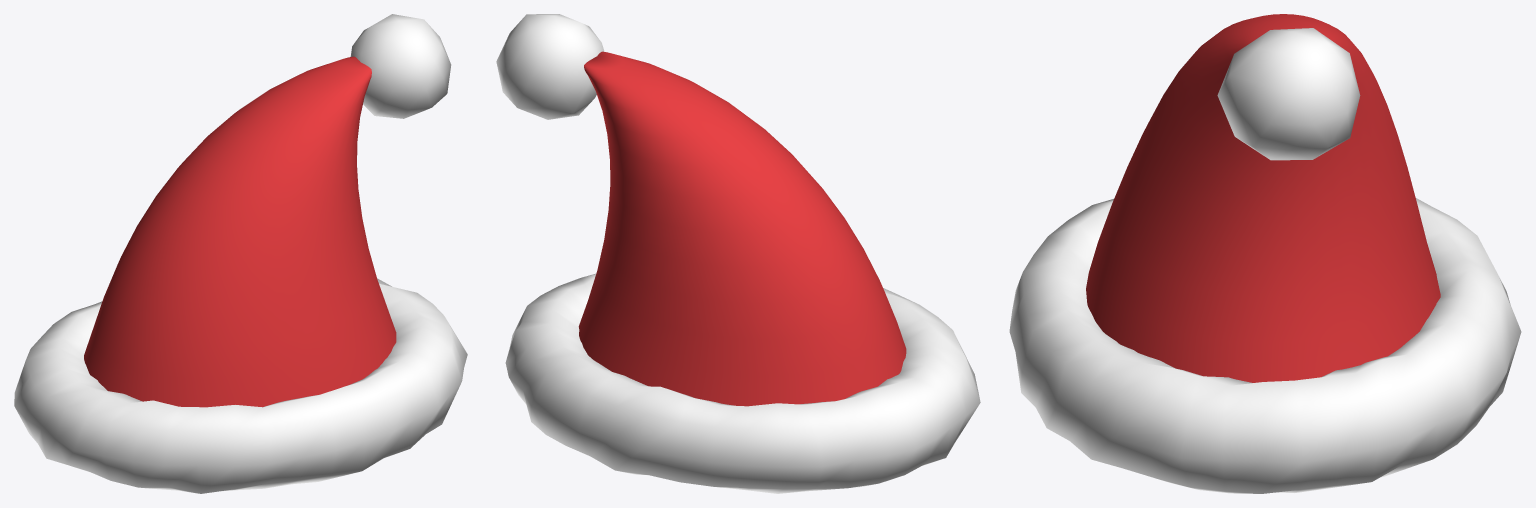
Rendered from santa.glb.
3 views of the same model, side by side, from view 1: azimuth 30°, elevation 25°; view 2: azimuth 150°, elevation 25°; view 3: azimuth 270°, elevation 25° (orthographic). The views are drawn at different scales.
Parts seen in each view (by area): view 1: santa; view 2: santa; view 3: santa.
Boxes of the visible parts, x1,y1,x2,y2 form: santa: (14, 14, 467, 493); santa: (496, 14, 980, 493); santa: (1009, 14, 1521, 493).
Bounding box in the file's own units: 0.6523 × 0.5323 × 0.5274.
